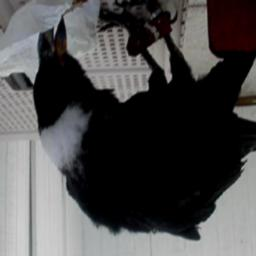Crow: (28, 0, 256, 242)
